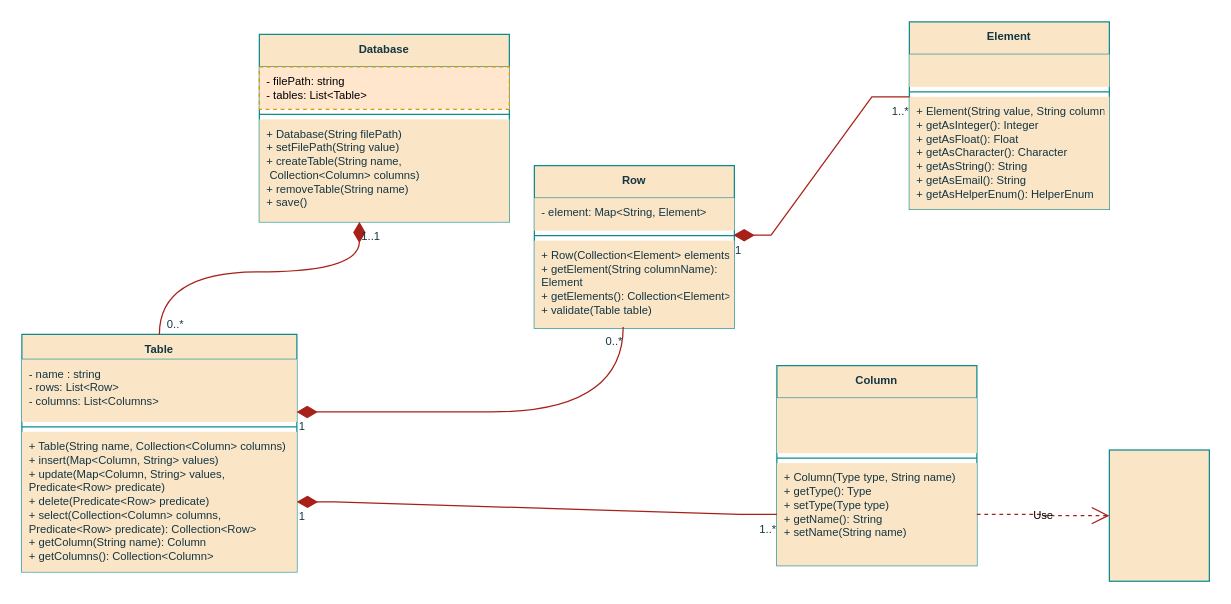
The diagram is 1231 pixels wide and 604 high, and some of its shapes have lost their labels. Each missing label, with the centre of its shape:
+ Type: enum - type: Type - name: String: pixel 876 425
- value: String - column: String: pixel 1009 70
<<enumeration>> Type INT FLOAT CHAR STR MONEY MONEYLNVL: pixel 1158 515
